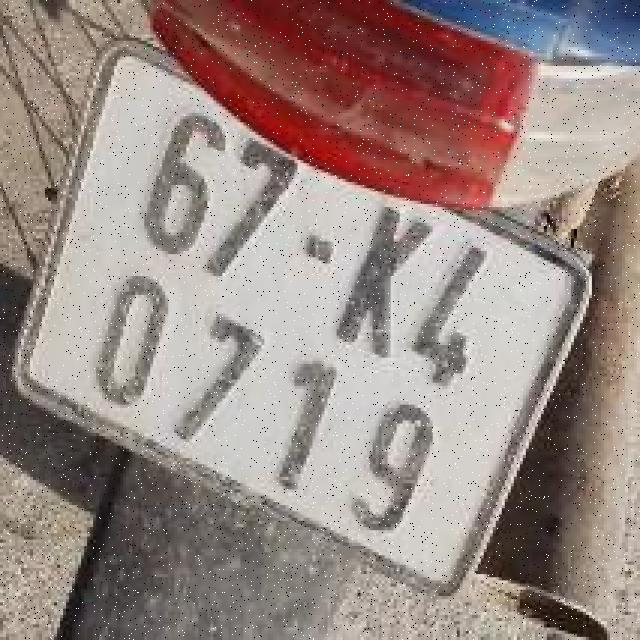0: (83, 258, 189, 417)
1: (251, 340, 361, 507)
4: (402, 225, 525, 399)
6: (131, 100, 244, 277)
7: (191, 127, 311, 292), (163, 297, 280, 456)
9: (341, 382, 472, 550)
K: (326, 192, 446, 369)
